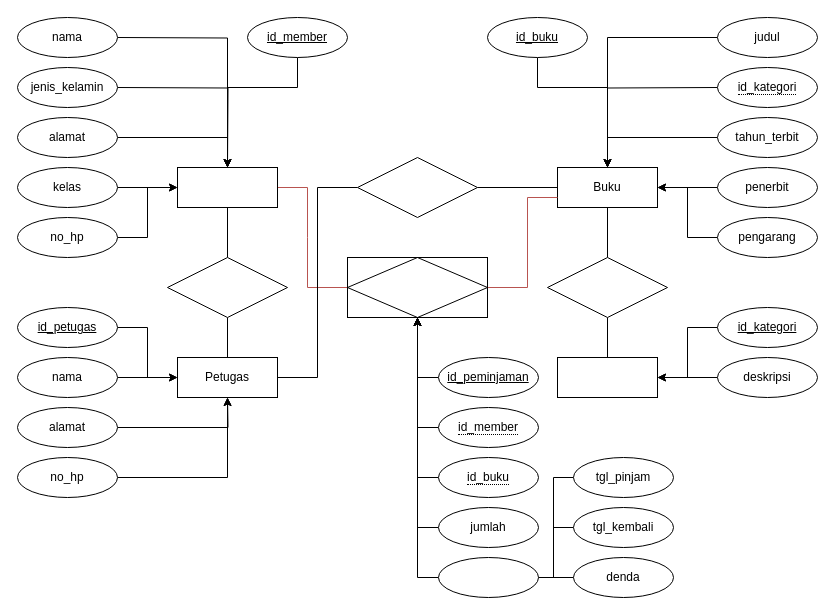
Image size: 835x615. Some labels were removed from this diagram. The shapes that lost their labels are listed below. From the top down, each one's box as (x1, y1, x2, y2) in pixels, then its label:
(176, 166, 278, 208): Member
(356, 156, 478, 218): Mendata
(166, 256, 288, 318): Melayani/Dilayani
(346, 256, 488, 318): Peminjaman
(546, 256, 668, 318): Memiliki
(556, 356, 658, 398): Kategori
(438, 556, 538, 598): pinjam
